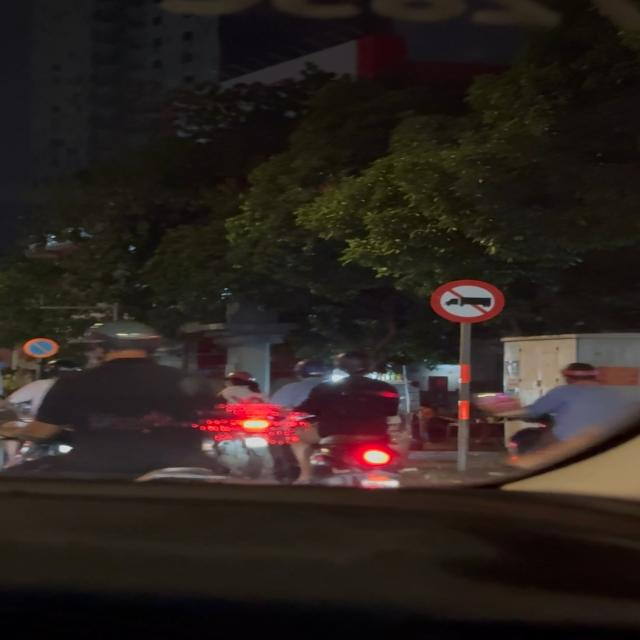Bien bao cam do xe: (24, 335, 60, 358)
Bien bao cam xe so-mi ro-mooc: (428, 280, 508, 324)
